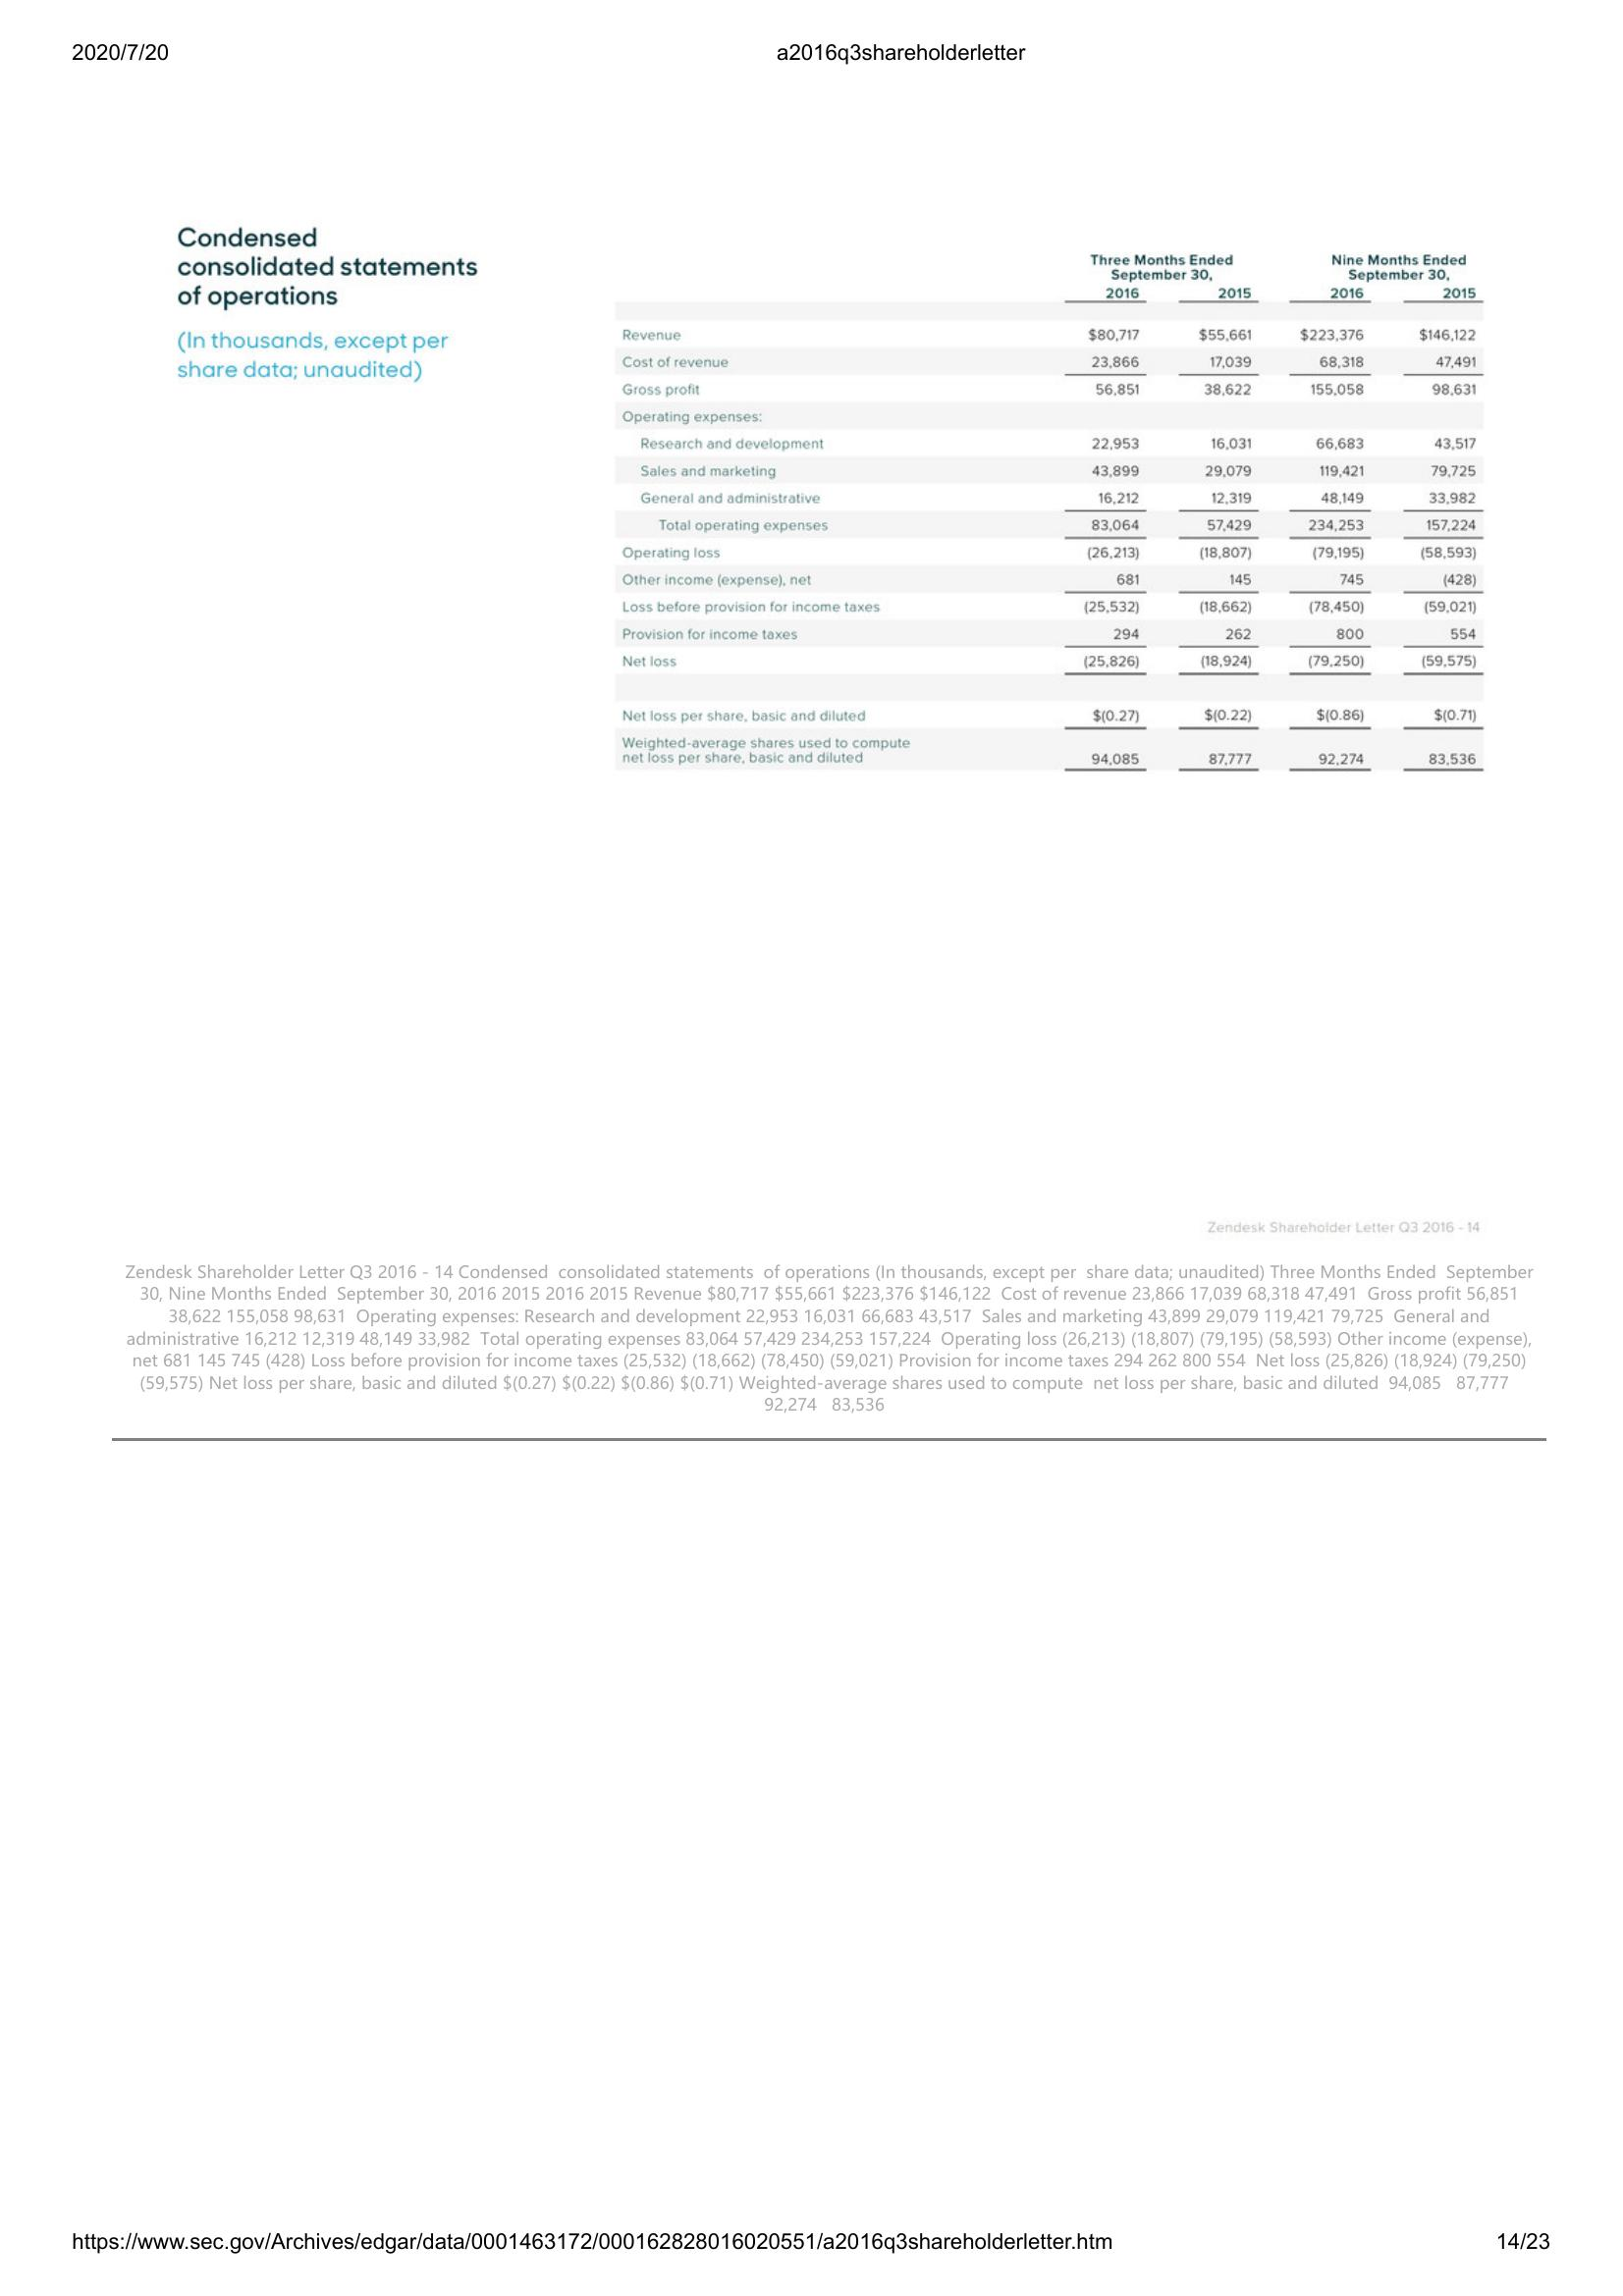table: (610, 251, 1495, 779)
